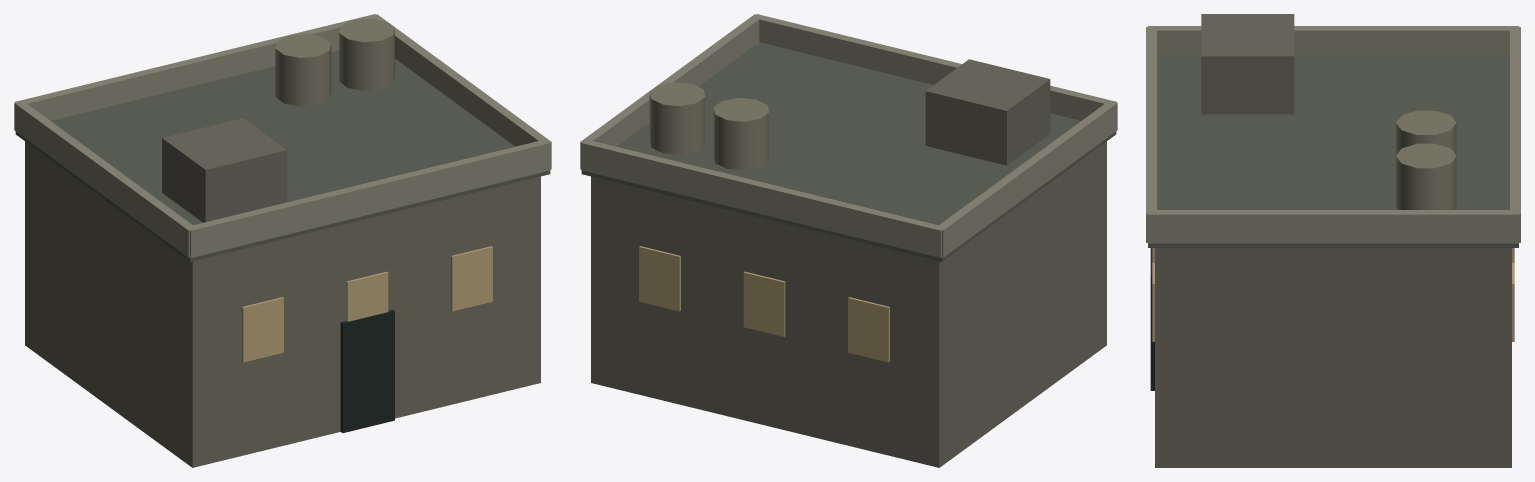
File: house2.glb
The picture shows the model from 3 angles, left to right: view 1: azimuth 30°, elevation 25°; view 2: azimuth 150°, elevation 25°; view 3: azimuth 270°, elevation 25°; orthographic projection. The views are drawn at different scales.
Parts seen in each view (by area): view 1: house2; view 2: house2; view 3: house2.
Part boxes in pixels (x1=…): house2: x1=14, y1=14, x2=551, y2=467; house2: x1=580, y1=14, x2=1117, y2=467; house2: x1=1146, y1=14, x2=1520, y2=467.
Bounding box in the file's own units: 12.5 × 9 × 10.5.
